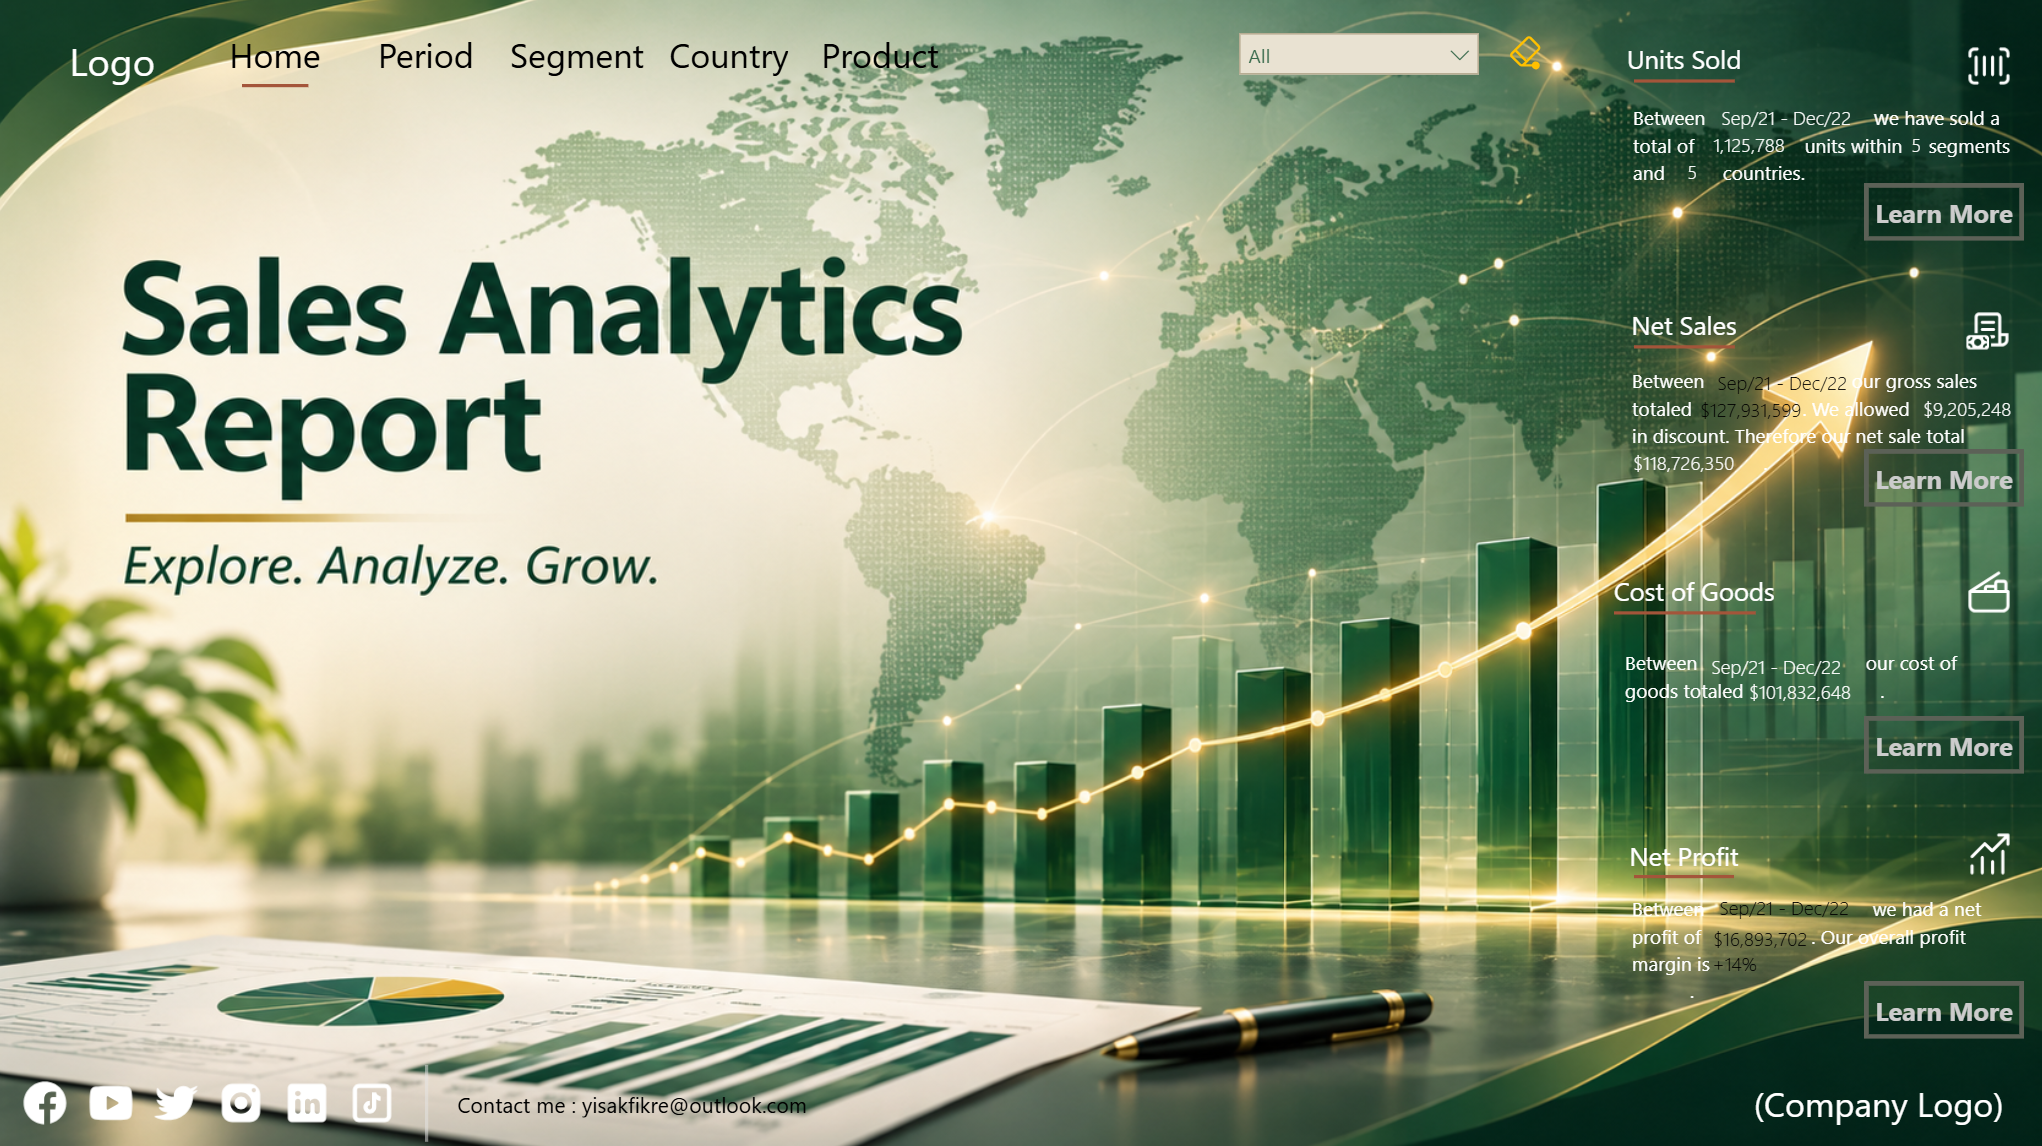

The dashboard page shown, as its layout file describes it:
{"tool":"powerbi","page":{"name":"Home","canvas":[1280,720],"ordinal":0},"visuals":[{"type":"actionButton","title":"Button Clear Managers","box":[935.7,21.4,37.1,24.3],"z":0,"group":"g10"},{"type":"textbox","box":[1016.5,59.8,249.7,100.8],"z":0,"group":"g3"},{"type":"actionButton","title":"Button_Learn_Unit_Sold","box":[1166.1,115,100,36.2],"z":0,"group":"g11"},{"type":"textbox","box":[1016.2,224.2,240,101],"z":0,"group":"g4"},{"type":"actionButton","title":"Button_Learn_Net_Sales","box":[1166.1,281.3,100,36.2],"z":0,"group":"g9"},{"type":"textbox","box":[1011.6,400.1,240,48],"z":0,"group":"g5"},{"type":"actionButton","title":"Button_Learn_COGs","box":[1166.1,447.6,100,36.2],"z":0,"group":"g8"},{"type":"group","id":"g1","title":"Right Pane_Net_Profit","box":[1003.6,515,263.8,140.1],"z":0,"group":"g7"},{"type":"textbox","box":[1016.3,554.1,240,101],"z":0,"group":"g6"},{"type":"actionButton","title":"Button_Learn_Net_Profit","box":[1166.1,613.8,100,36.2],"z":0,"group":"g1"},{"type":"group","id":"g2","title":"Footer","box":[9.3,666,1258.7,48.1],"z":0},{"type":"textbox","title":"Text box_Logo","box":[1082.3,670.6,185.8,43.5],"z":0,"group":"g2"},{"type":"group","id":"g3","title":"Unit_Sold","box":[1016.5,51.7,249.7,108.9],"z":500,"group":"g11"},{"type":"group","id":"g4","title":"Net_Sales","box":[1005,216.1,271.5,109.1],"z":500,"group":"g9"},{"type":"group","id":"g5","title":"COGs","box":[1011.6,393.1,240,55],"z":500,"group":"g8"},{"type":"group","id":"g6","title":"Net_Profit","box":[1016.3,544.2,240,110.9],"z":500,"group":"g1"},{"type":"slicer","title":"Slicer Managers","fields":{"Values":["DIM_MANAGERS.Manager Name"]},"box":[765.7,11.4,170,45.7],"z":1000,"group":"g10"},{"type":"group","id":"g7","title":"Right_Pane","box":[1003.6,21.7,272.9,633.5],"z":1000},{"type":"actionButton","title":"Icon_Unit_Sold","box":[1224.8,22.5,42.5,38.8],"z":1000,"group":"g11"},{"type":"cardVisual","title":"Card_Date","fields":{"Data":["Measure.M_Date Selection"]},"box":[1059.3,51.7,118.6,36.9],"z":1000,"group":"g3"},{"type":"actionButton","title":"Icon_Net_Sales","box":[1224.8,186.7,42.5,38.8],"z":1000,"group":"g9"},{"type":"group","id":"g8","title":"Right_Pane_COGs","box":[1003.6,350.9,263.8,132.9],"z":1000,"group":"g7"},{"type":"actionButton","title":"Icon_COGs","box":[1224.8,350.9,42.5,38.8],"z":1000,"group":"g8"},{"type":"actionButton","title":"Icon_Net_Profit","box":[1224.8,515,42.5,38.8],"z":1000,"group":"g1"},{"type":"cardVisual","title":"Card_Date","fields":{"Data":["Measure.M_Date Selection"]},"box":[1058.7,544.2,122.5,38.9],"z":1000,"group":"g6"},{"type":"actionButton","title":"Button_Contact_me","box":[283.3,670,230.6,40],"z":1000,"group":"g2"},{"type":"actionButton","title":"Button_Product","box":[501.4,14.3,100,40],"z":2000,"group":"g10"},{"type":"shape","title":"Line_Unit_Sold","box":[1022.2,45.7,63.1,11.2],"z":2000,"group":"g11"},{"type":"cardVisual","title":"Card_Unit_Sold","fields":{"Data":["Measure.M_Units Sold"]},"box":[1054.6,71.9,85,30],"z":2000,"group":"g3"},{"type":"group","id":"g9","title":"Right_Pane_Net_Sales","box":[1003.6,186.7,272.9,138.5],"z":2000,"group":"g7"},{"type":"shape","title":"Line_Net_Sales","box":[1022.2,211.5,63.3,11.1],"z":2000,"group":"g9"},{"type":"shape","title":"Line_COGs","box":[1010,377.2,88.6,12.4],"z":2000,"group":"g8"},{"type":"cardVisual","title":"Card_COGs","fields":{"Data":["Measure.M_Cost Of Goods"]},"box":[1077.5,412.9,101,30],"z":2000,"group":"g5"},{"type":"shape","title":"Line_Net_Profit","box":[1022.2,542.9,62.5,10.7],"z":2000,"group":"g1"},{"type":"cardVisual","title":"Card_Net Profit","fields":{"Data":["Measure.M_Profit"]},"box":[1054.8,568.2,96.4,30],"z":2000,"group":"g6"},{"type":"shape","title":"Shape_Line_Divider","box":[257,666,22,48],"z":2000,"group":"g2"},{"type":"cardVisual","title":"Card_Date","fields":{"Data":["Measure.M_Date Selection"]},"box":[1053.8,393.1,121.2,37.6],"z":2500,"group":"g5"},{"type":"group","id":"g10","title":"Header","box":[30,0,942.9,68.9],"z":3000},{"type":"actionButton","title":"Button_Country","box":[406.8,14.3,100,40],"z":3000,"group":"g10"},{"type":"group","id":"g11","title":"Right_Pane_Unit_Sold","box":[1003.6,21.7,263.8,138.9],"z":3000,"group":"g7"},{"type":"actionButton","title":"Button_Unit_Sold","box":[1003.6,21.7,100,31.7],"z":3000,"group":"g11"},{"type":"cardVisual","title":"Card_Segment","fields":{"Data":["Measure.M_# of Distinct Segments"]},"box":[1178.4,71.9,42.9,30],"z":3000,"group":"g3"},{"type":"actionButton","title":"Button_Net_Sales","box":[1003.6,188.2,100,31.1],"z":3000,"group":"g9"},{"type":"actionButton","title":"Button_COGs","box":[1003.6,354.3,112.7,31],"z":3000,"group":"g8"},{"type":"actionButton","title":"Button_Net_Profit","box":[1003.6,520,100,31.1],"z":3000,"group":"g1"},{"type":"actionButton","title":"Button_Tiktok","box":[213.9,670,41.5,40],"z":3000,"group":"g2"},{"type":"actionButton","title":"Button_Segment","box":[312.1,14.3,100,40],"z":4000,"group":"g10"},{"type":"cardVisual","title":"Card_Countries","fields":{"Data":["Measure.M_# of Distinct Countries"]},"box":[1038.4,88.8,40.7,30],"z":4000,"group":"g3"},{"type":"cardVisual","title":"Card_Net Sale","fields":{"Data":["Measure.M_Net Sales"]},"box":[1005,270.8,103.6,30],"z":4000,"group":"g4"},{"type":"cardVisual","title":"Card_Profit Margin","fields":{"Data":["Measure.M_Profit Margin Formatted"]},"box":[1054.2,583.3,62.9,30],"z":4000,"group":"g6"},{"type":"actionButton","title":"Button_LinkedIn","box":[172.8,670,41.5,40],"z":4000,"group":"g2"},{"type":"cardVisual","title":"Card_Discount","fields":{"Data":["Measure.M_Discounts"]},"box":[1186.5,236.8,90,30],"z":4125,"group":"g4"},{"type":"cardVisual","title":"Card_Gross Sale","fields":{"Data":["Measure.M_Gross Sales"]},"box":[1046.9,237.1,102.1,30],"z":4250,"group":"g4"},{"type":"cardVisual","title":"Card_Date","fields":{"Data":["Measure.M_Date Selection"]},"box":[1057.4,216.1,120.6,37.6],"z":4500,"group":"g4"},{"type":"actionButton","title":"Button_Period","box":[217.5,14.3,100,40],"z":5000,"group":"g10"},{"type":"actionButton","title":"Button_Instagram","box":[131.7,670,41.5,40],"z":5000,"group":"g2"},{"type":"shape","title":"Shape_Home_Active","box":[152.5,42,41.5,24.5],"z":6000,"group":"g10"},{"type":"actionButton","title":"Button_Twitter","box":[91.4,670,40.8,40],"z":6000,"group":"g2"},{"type":"actionButton","title":"Button_Home","box":[122.9,14.3,100,40],"z":7000,"group":"g10"},{"type":"actionButton","title":"Button_Youtube","box":[50.3,670,41.5,40],"z":7000,"group":"g2"},{"type":"textbox","title":"Text box_Logo","box":[30,0,82.9,68.9],"z":8000,"group":"g10"},{"type":"actionButton","title":"Button_Facebook","box":[9.3,670,41.4,40],"z":8000,"group":"g2"}]}

Visuals, with their boxes in screenshot pixels (x1, y1, x2, y2), scaled from the page's 1280x720 canvas onto the 2042x1146 screenshot:
"Button Clear Managers" actionButton: <box>1493,34,1552,73</box>
textbox: <box>1622,95,2020,256</box>
"Button_Learn_Unit_Sold" actionButton: <box>1860,183,2020,241</box>
textbox: <box>1621,357,2004,518</box>
"Button_Learn_Net_Sales" actionButton: <box>1860,448,2020,505</box>
textbox: <box>1614,637,1997,713</box>
"Button_Learn_COGs" actionButton: <box>1860,712,2020,770</box>
"Right Pane_Net_Profit" group: <box>1601,820,2022,1043</box>
textbox: <box>1621,882,2004,1043</box>
"Button_Learn_Net_Profit" actionButton: <box>1860,977,2020,1035</box>
"Footer" group: <box>15,1060,2023,1137</box>
"Text box_Logo" textbox: <box>1727,1067,2023,1137</box>
"Unit_Sold" group: <box>1622,82,2020,256</box>
"Net_Sales" group: <box>1603,344,2036,518</box>
"COGs" group: <box>1614,626,1997,713</box>
"Net_Profit" group: <box>1621,866,2004,1043</box>
"Slicer Managers" slicer: <box>1222,18,1493,91</box>
"Right_Pane" group: <box>1601,35,2036,1043</box>
"Icon_Unit_Sold" actionButton: <box>1954,36,2022,98</box>
"Card_Date" cardVisual: <box>1690,82,1879,141</box>
"Icon_Net_Sales" actionButton: <box>1954,297,2022,359</box>
"Right_Pane_COGs" group: <box>1601,559,2022,770</box>
"Icon_COGs" actionButton: <box>1954,559,2022,620</box>
"Icon_Net_Profit" actionButton: <box>1954,820,2022,881</box>
"Card_Date" cardVisual: <box>1689,866,1884,928</box>
"Button_Contact_me" actionButton: <box>452,1066,820,1130</box>
"Button_Product" actionButton: <box>800,23,959,86</box>
"Line_Unit_Sold" shape: <box>1631,73,1731,91</box>
"Card_Unit_Sold" cardVisual: <box>1682,114,1818,162</box>
"Right_Pane_Net_Sales" group: <box>1601,297,2036,518</box>
"Line_Net_Sales" shape: <box>1631,337,1732,354</box>
"Line_COGs" shape: <box>1611,600,1753,620</box>
"Card_COGs" cardVisual: <box>1719,657,1880,705</box>
"Line_Net_Profit" shape: <box>1631,864,1730,881</box>
"Card_Net Profit" cardVisual: <box>1683,904,1837,952</box>
"Shape_Line_Divider" shape: <box>410,1060,445,1136</box>
"Card_Date" cardVisual: <box>1681,626,1874,686</box>
"Header" group: <box>48,0,1552,110</box>
"Button_Country" actionButton: <box>649,23,809,86</box>
"Right_Pane_Unit_Sold" group: <box>1601,35,2022,256</box>
"Button_Unit_Sold" actionButton: <box>1601,35,1761,85</box>
"Card_Segment" cardVisual: <box>1880,114,1948,162</box>
"Button_Net_Sales" actionButton: <box>1601,300,1761,349</box>
"Button_COGs" actionButton: <box>1601,564,1781,613</box>
"Button_Net_Profit" actionButton: <box>1601,828,1761,877</box>
"Button_Tiktok" actionButton: <box>341,1066,407,1130</box>
"Button_Segment" actionButton: <box>498,23,657,86</box>
"Card_Countries" cardVisual: <box>1657,141,1722,189</box>
"Card_Net Sale" cardVisual: <box>1603,431,1769,479</box>
"Card_Profit Margin" cardVisual: <box>1682,928,1782,976</box>
"Button_LinkedIn" actionButton: <box>276,1066,342,1130</box>
"Card_Discount" cardVisual: <box>1893,377,2036,425</box>
"Card_Gross Sale" cardVisual: <box>1670,377,1833,425</box>
"Card_Date" cardVisual: <box>1687,344,1879,404</box>
"Button_Period" actionButton: <box>347,23,507,86</box>
"Button_Instagram" actionButton: <box>210,1066,276,1130</box>
"Shape_Home_Active" shape: <box>243,67,309,106</box>
"Button_Twitter" actionButton: <box>146,1066,211,1130</box>
"Button_Home" actionButton: <box>196,23,356,86</box>
"Button_Youtube" actionButton: <box>80,1066,146,1130</box>
"Text box_Logo" textbox: <box>48,0,180,110</box>
"Button_Facebook" actionButton: <box>15,1066,81,1130</box>
